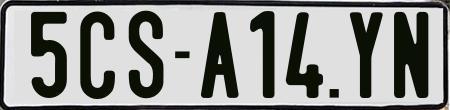1: (248, 10, 278, 103)
4: (285, 10, 328, 101)
5: (28, 9, 66, 101)
A: (201, 10, 243, 99)
C: (80, 11, 118, 99)
N: (394, 10, 433, 99)
S: (129, 9, 166, 97)
Y: (347, 9, 380, 100)
